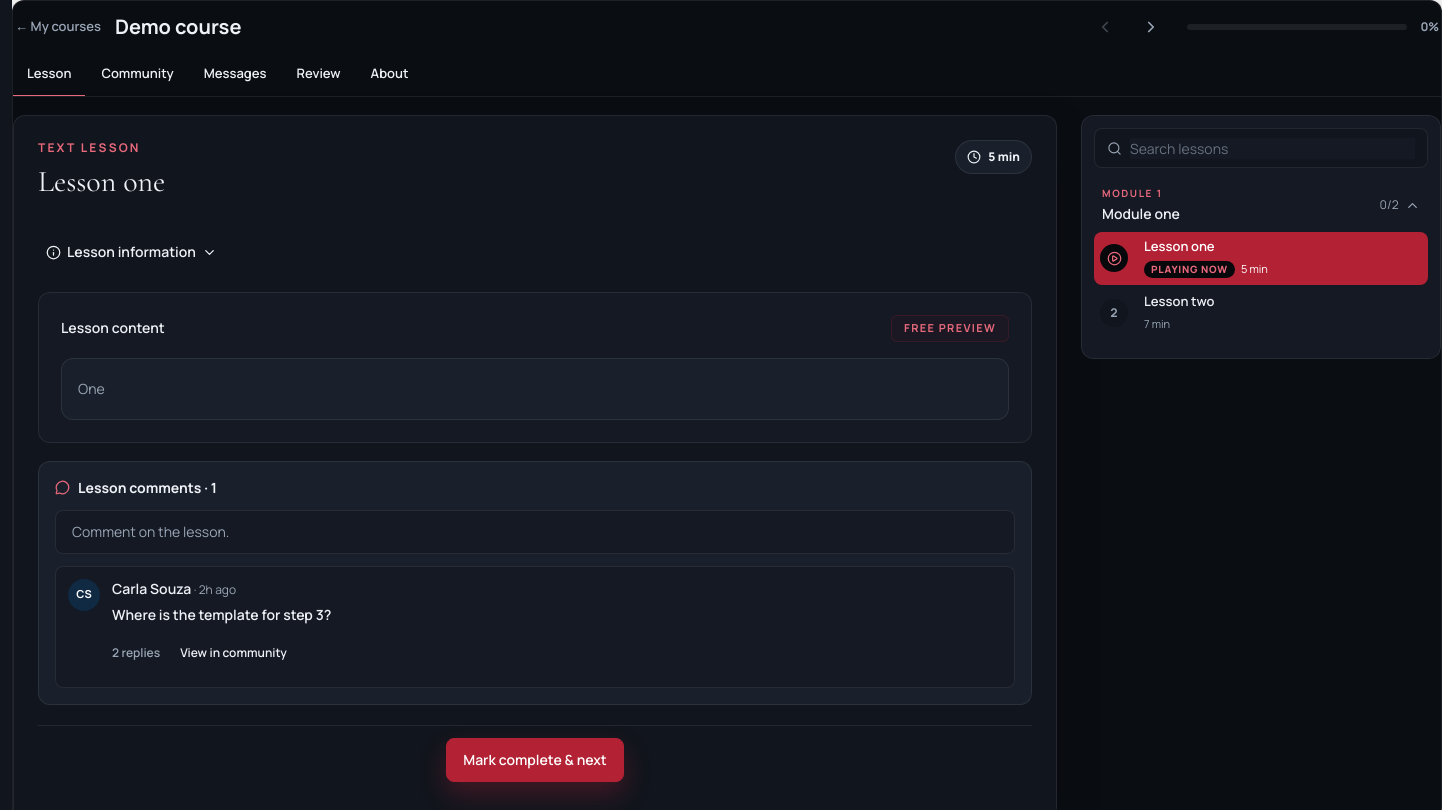
Test: comentarios da aula sob o player › uma caixa so por aula (decisao 07/09): a antiga, da tabela lesson_comments, saiu
The width and height of the screenshot is (1452, 810).
What coordinates should you click on to do the following:
click the button "Comment on the lesson."
I would click on:
 (151, 531)
Its box is [55,510,1015,554].
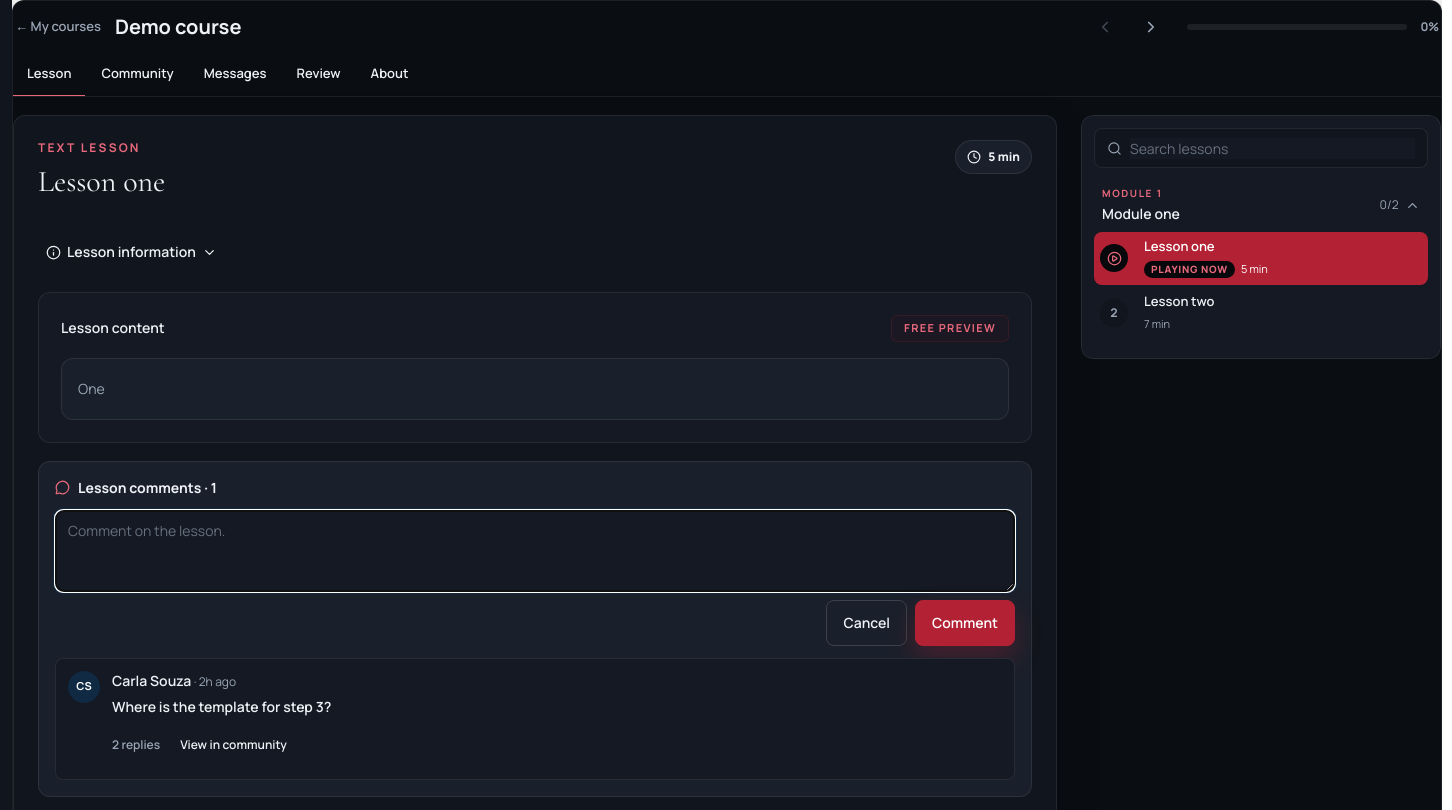
expect the number of text boxes is 1: met, box [55,510,1015,592]
expect the number of buttons "Comment" is 1: met, box [915,600,1015,646]
